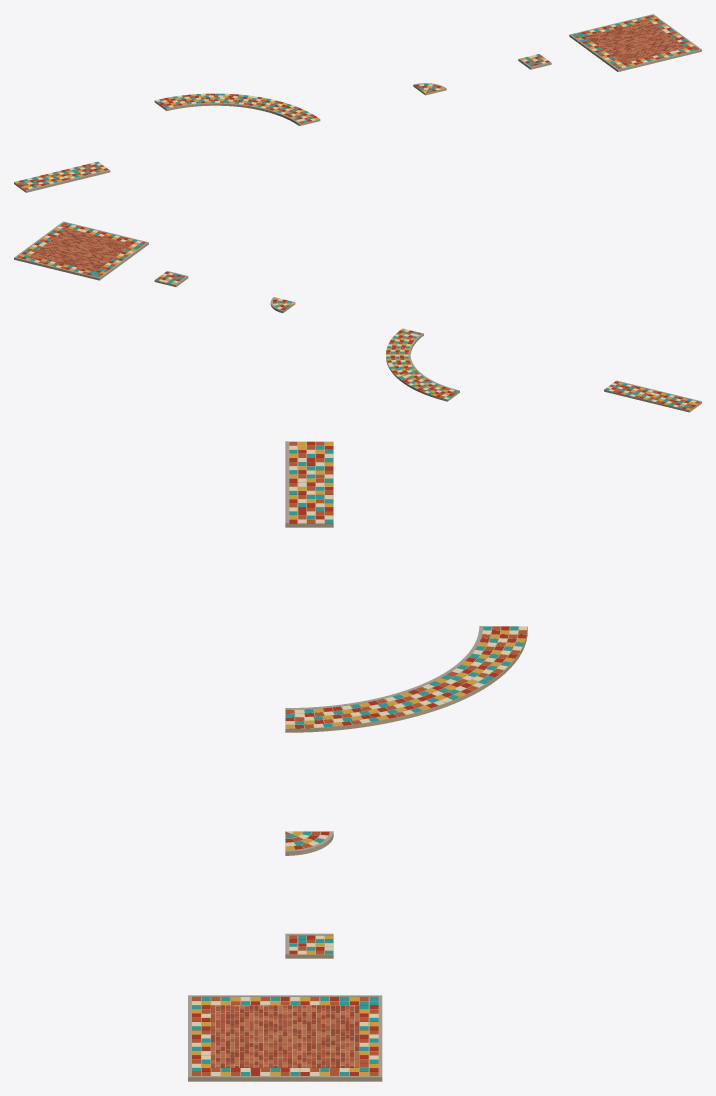
Rendered from suelo-aceras-ladrillo.glb.
The picture shows the model from 3 angles, top to bottom: view 1: azimuth 30°, elevation 25°; view 2: azimuth 150°, elevation 25°; view 3: azimuth 270°, elevation 25°; orthographic projection. The views are drawn at different scales.
Parts seen in each view (by area): view 1: plataforma_casa_AceraBase, plataforma_casa_LadrilloA, plataforma_casa_LadrilloC, plataforma_casa_LadrilloB, acera_curva_exterior_AceraBase, plataforma_casa_Bordillo, acera_recta_AceraBase, acera_curva_exterior_BaldosaCrema, acera_curva_exterior_BaldosaTurquesa, acera_curva_exterior_BaldosaRoja, acera_curva_exterior_BaldosaMostaza, plataforma_casa_BaldosaTerracota (+6 smaller); view 2: plataforma_casa_AceraBase, plataforma_casa_LadrilloA, plataforma_casa_LadrilloC, plataforma_casa_LadrilloB, acera_curva_exterior_AceraBase, plataforma_casa_Bordillo, acera_recta_AceraBase, acera_curva_exterior_BaldosaCrema, acera_curva_exterior_BaldosaTurquesa, acera_curva_exterior_BaldosaRoja, acera_curva_exterior_BaldosaMostaza, plataforma_casa_BaldosaTurquesa (+5 smaller); view 3: plataforma_casa_AceraBase, plataforma_casa_LadrilloA, plataforma_casa_LadrilloC, plataforma_casa_LadrilloB, acera_curva_exterior_AceraBase, plataforma_casa_Bordillo, acera_curva_exterior_BaldosaCrema, acera_curva_exterior_BaldosaRoja, acera_curva_exterior_BaldosaTurquesa, acera_curva_exterior_BaldosaMostaza, acera_recta_AceraBase, plataforma_casa_BaldosaTerracota (+5 smaller).
Boxes of the visible parts, bbox=[...] form: plataforma_casa_AceraBase: bbox=[569, 16, 701, 71]; plataforma_casa_LadrilloA: bbox=[588, 22, 685, 63]; plataforma_casa_LadrilloC: bbox=[587, 21, 684, 62]; plataforma_casa_LadrilloB: bbox=[585, 21, 683, 61]; acera_curva_exterior_AceraBase: bbox=[154, 93, 320, 125]; plataforma_casa_Bordillo: bbox=[569, 14, 701, 71]; acera_recta_AceraBase: bbox=[14, 163, 109, 192]; acera_curva_exterior_BaldosaCrema: bbox=[155, 93, 315, 121]; acera_curva_exterior_BaldosaTurquesa: bbox=[157, 93, 313, 122]; acera_curva_exterior_BaldosaRoja: bbox=[160, 93, 316, 121]; acera_curva_exterior_BaldosaMostaza: bbox=[164, 94, 319, 119]; plataforma_casa_BaldosaTerracota: bbox=[574, 15, 698, 68]; plataforma_casa_AceraBase: bbox=[14, 224, 148, 280]; plataforma_casa_LadrilloA: bbox=[33, 228, 132, 270]; plataforma_casa_LadrilloC: bbox=[30, 229, 131, 270]; plataforma_casa_LadrilloB: bbox=[31, 230, 129, 271]; acera_curva_exterior_AceraBase: bbox=[386, 329, 459, 401]; plataforma_casa_Bordillo: bbox=[14, 221, 148, 280]; acera_recta_AceraBase: bbox=[604, 382, 701, 412]; acera_curva_exterior_BaldosaCrema: bbox=[386, 329, 454, 399]; acera_curva_exterior_BaldosaTurquesa: bbox=[386, 331, 458, 397]; acera_curva_exterior_BaldosaRoja: bbox=[386, 330, 453, 397]; acera_curva_exterior_BaldosaMostaza: bbox=[386, 328, 449, 395]; plataforma_casa_BaldosaTurquesa: bbox=[24, 223, 143, 277]; plataforma_casa_AceraBase: bbox=[188, 997, 382, 1081]; plataforma_casa_LadrilloA: bbox=[211, 1005, 359, 1067]; plataforma_casa_LadrilloC: bbox=[211, 1005, 359, 1067]; plataforma_casa_LadrilloB: bbox=[211, 1005, 359, 1067]; acera_curva_exterior_AceraBase: bbox=[285, 626, 527, 732]; plataforma_casa_Bordillo: bbox=[188, 995, 382, 1081]; acera_curva_exterior_BaldosaCrema: bbox=[285, 626, 527, 727]; acera_curva_exterior_BaldosaRoja: bbox=[285, 626, 526, 728]; acera_curva_exterior_BaldosaTurquesa: bbox=[285, 626, 523, 727]; acera_curva_exterior_BaldosaMostaza: bbox=[285, 630, 525, 728]; acera_recta_AceraBase: bbox=[285, 441, 333, 527]; plataforma_casa_BaldosaTerracota: bbox=[192, 997, 378, 1075].
Bounding box in the file's own units: 62 × 0.192 × 14.
